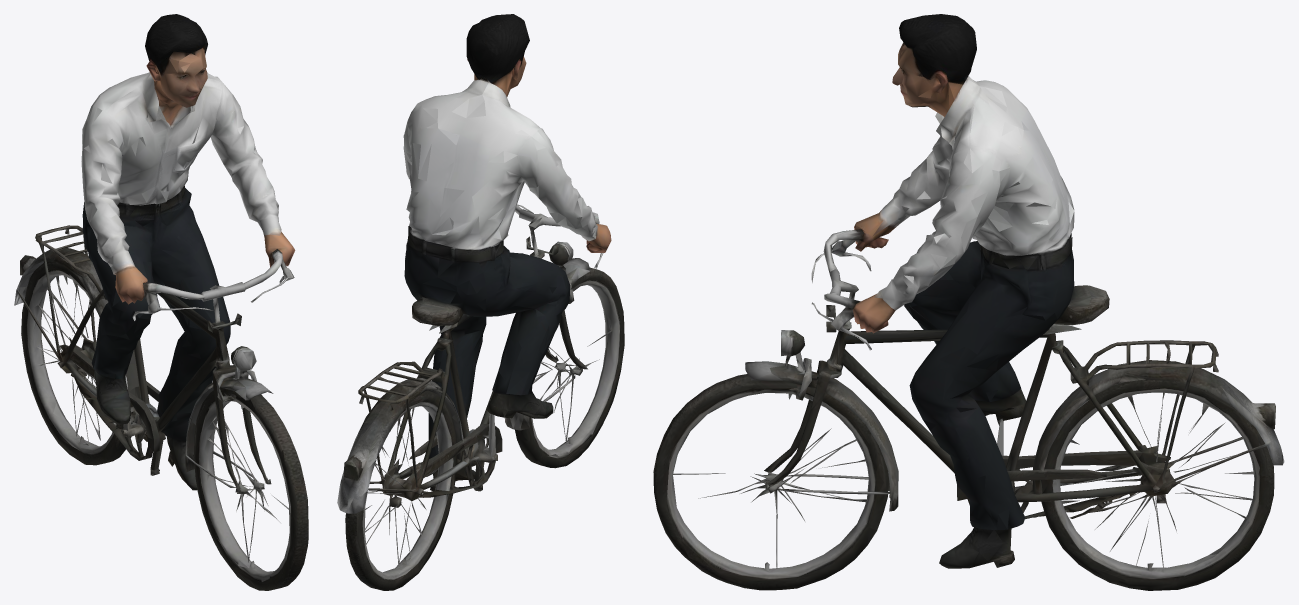
File: xe-dap.glb
The picture shows the model from 3 angles, left to right: view 1: azimuth 30°, elevation 25°; view 2: azimuth 150°, elevation 25°; view 3: azimuth 270°, elevation 25°; orthographic projection. The views are drawn at different scales.
Parts seen in each view (by area): view 1: than, ao, banh_0, banh_1; view 2: than, ao, banh_1, banh_0; view 3: than, banh_1, ao, banh_0.
Boxes of the visible parts, x1,y1,x2,y2 form: than: (35, 14, 295, 490); ao: (81, 72, 282, 300); banh_0: (182, 333, 308, 590); banh_1: (14, 229, 138, 464); than: (358, 14, 611, 572); ao: (403, 80, 599, 249); banh_1: (337, 367, 474, 590); banh_0: (504, 241, 624, 468); than: (811, 14, 1216, 582); banh_1: (1022, 341, 1284, 590); ao: (823, 76, 1074, 310); banh_0: (653, 330, 911, 590).
Bounding box in the file's own units: 0.6403 × 1.75 × 1.75.
1 material, 1 textured.
